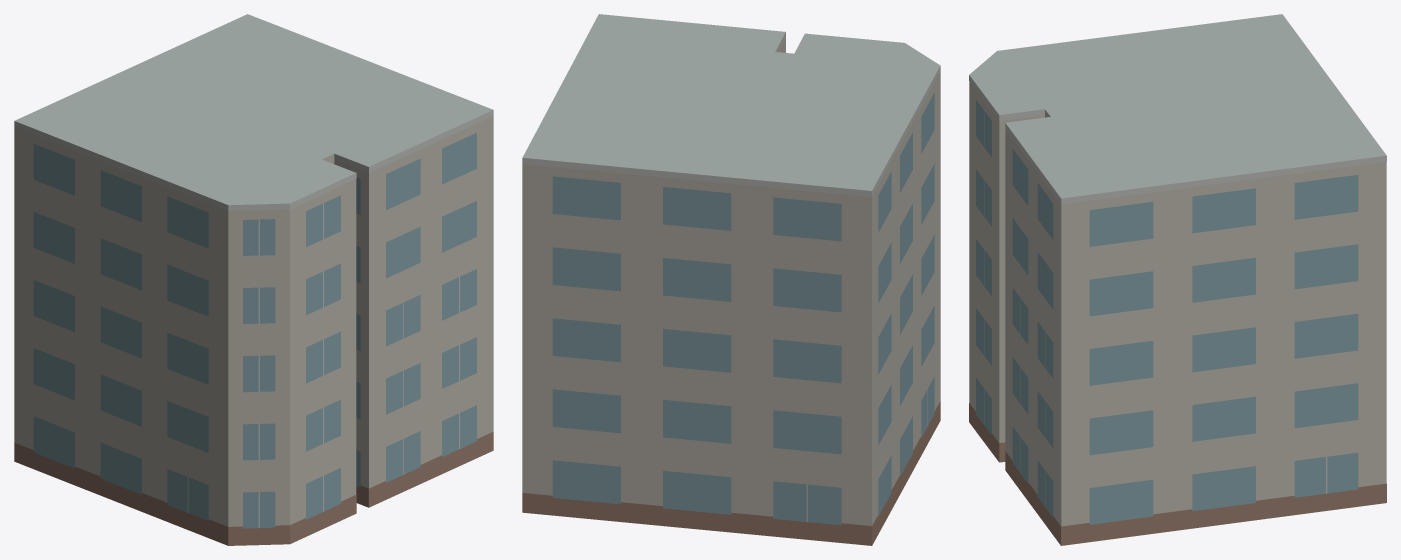
File: survey-upis-32853108.glb
3 renders of one model, left to right at view 1: azimuth 30°, elevation 25°; view 2: azimuth 150°, elevation 25°; view 3: azimuth 270°, elevation 25°, orthographic. The views are drawn at different scales.
Visible parts, largest first — view 1: survey-upis-32853108.tmp; view 2: survey-upis-32853108.tmp; view 3: survey-upis-32853108.tmp.
Boxes of the visible parts, box(x1,y1,x2,y2) form: survey-upis-32853108.tmp: box(14, 14, 493, 545); survey-upis-32853108.tmp: box(522, 14, 940, 545); survey-upis-32853108.tmp: box(969, 14, 1386, 545).
Bounding box in the file's own units: 16.18 × 14.2 × 15.48.
